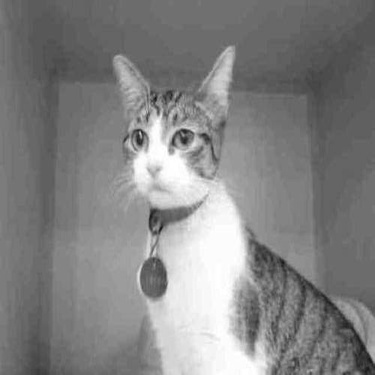cat: (111, 43, 373, 372)
